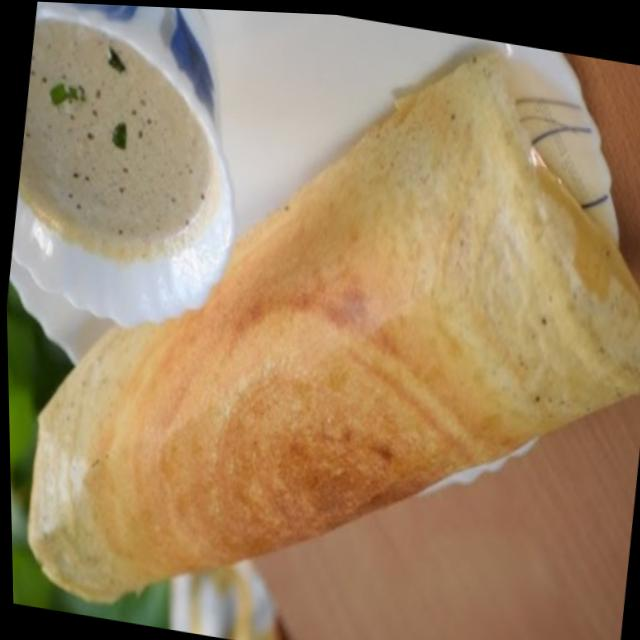DOSA: (25, 48, 640, 603)
WHITE CHUTNEY: (9, 2, 235, 345)
